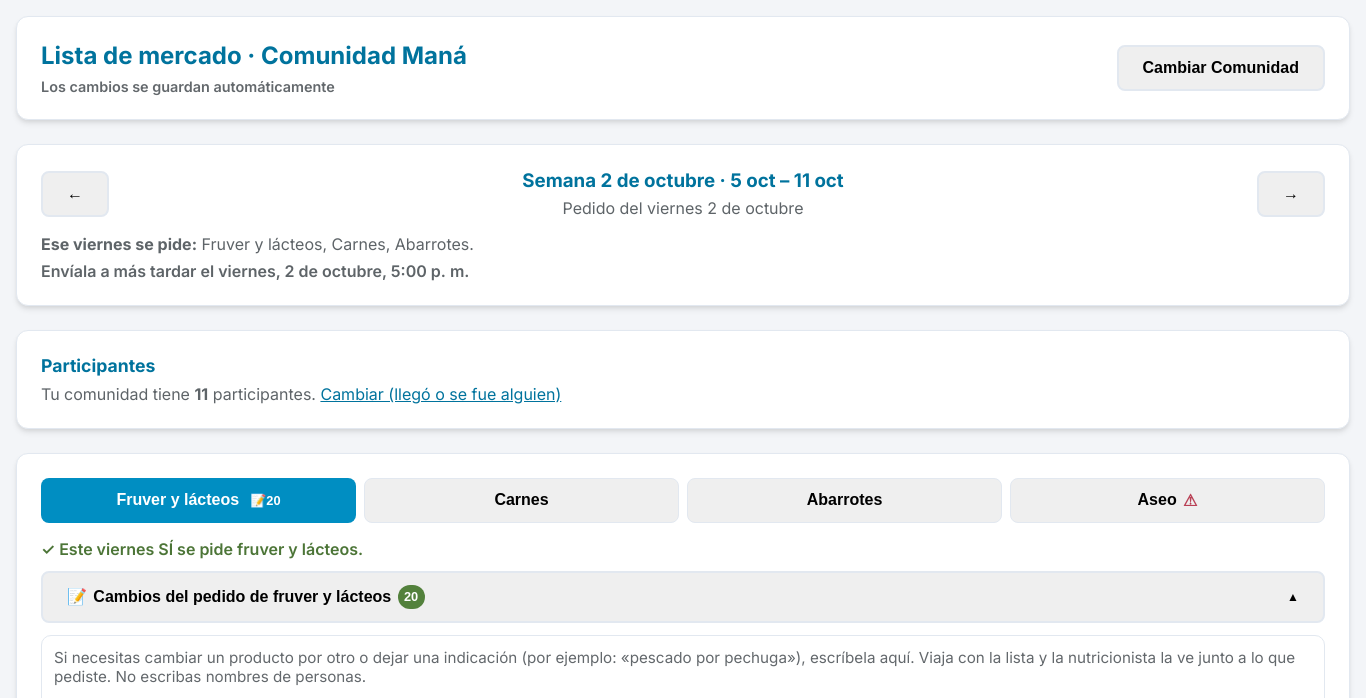
Test: zona de cambios: límite de 20 › el límite es por tipo de lista: carnes tiene sus propias 20
Click the tab "Carnes": (522, 500) [364,478,679,523]
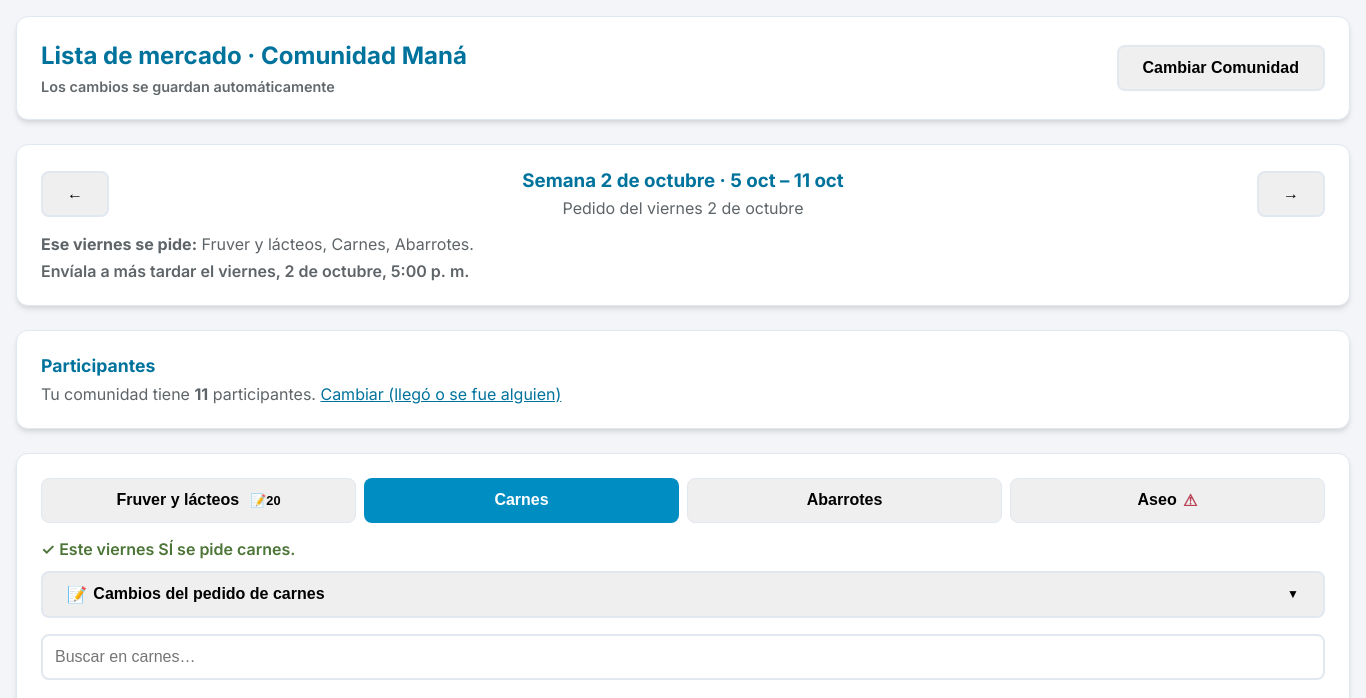
Click the button "📝 Cambios del pedido de carnes ▼": (183, 594) [41,571,1325,618]
(page scrolled)
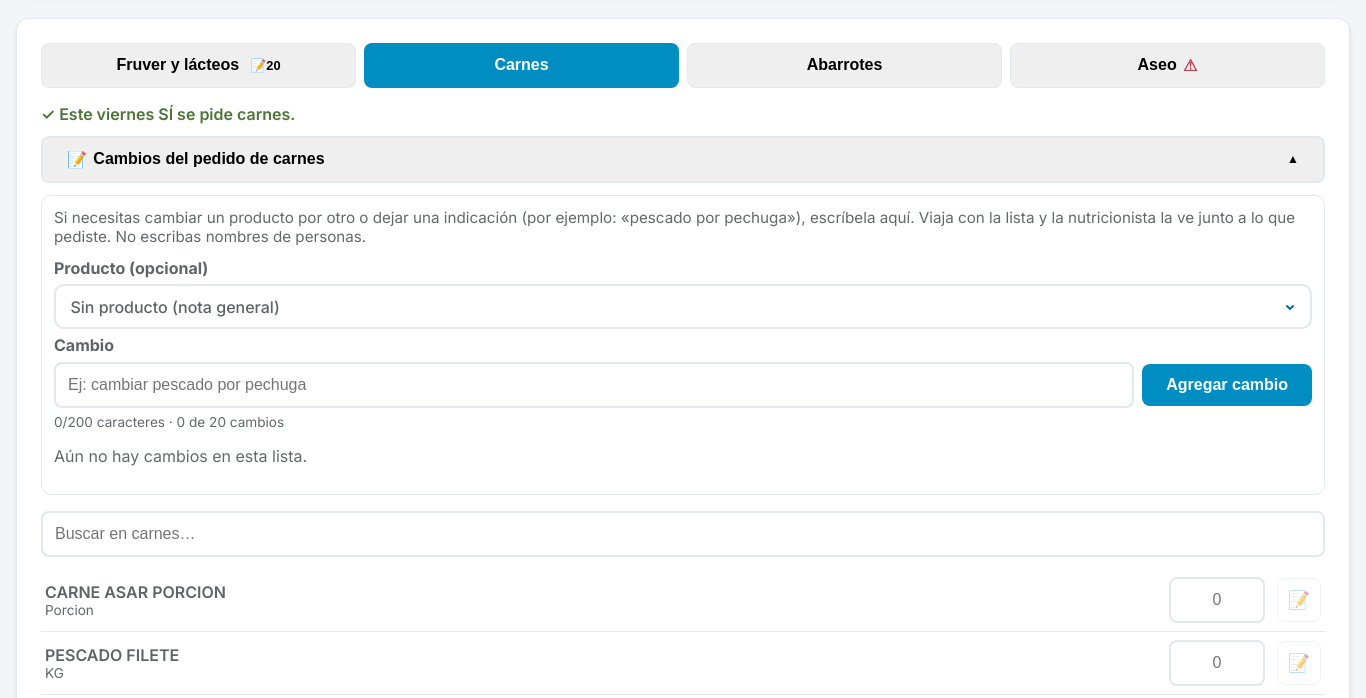
Now the field labelled "Cambio" is enabled, box [54,362,1134,408]
